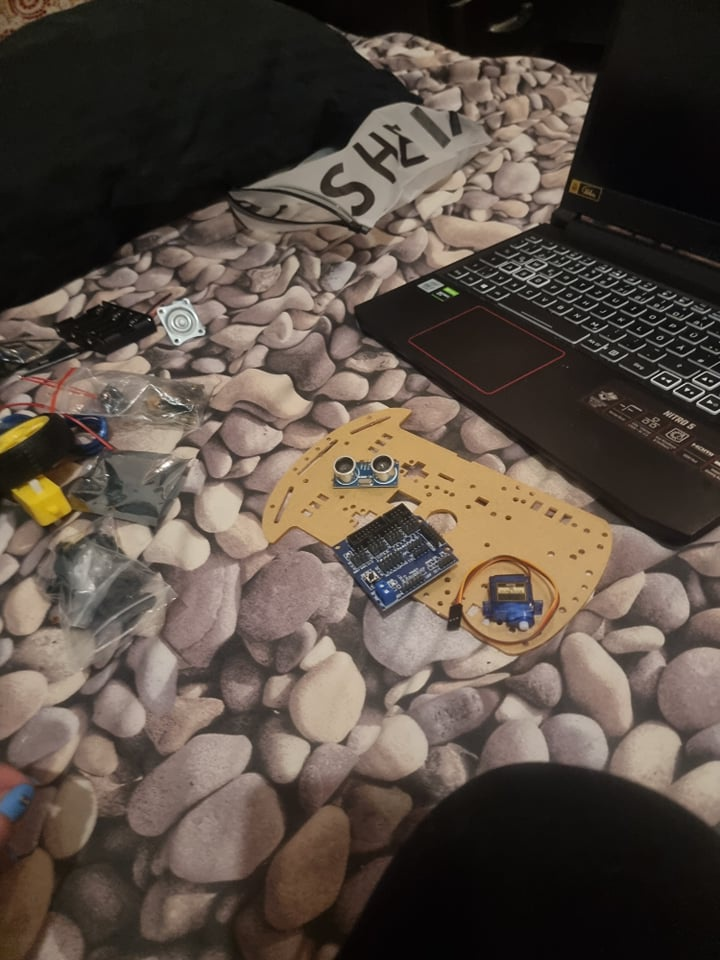5V EXPANSION: (332, 502, 459, 615)
BATTERY BOX: (53, 300, 159, 356)
SENSOR: (330, 453, 399, 489)
